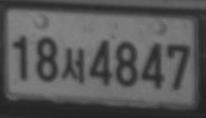1: (11, 35, 31, 81)
4: (141, 42, 166, 90), (88, 39, 113, 86)
7: (166, 43, 190, 90)
8: (115, 41, 138, 87), (36, 36, 58, 83)
서: (61, 47, 85, 84)
